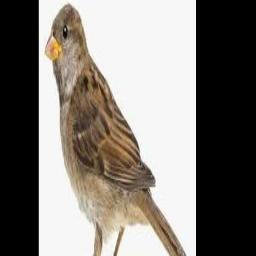Sparrow: (45, 4, 189, 256)
